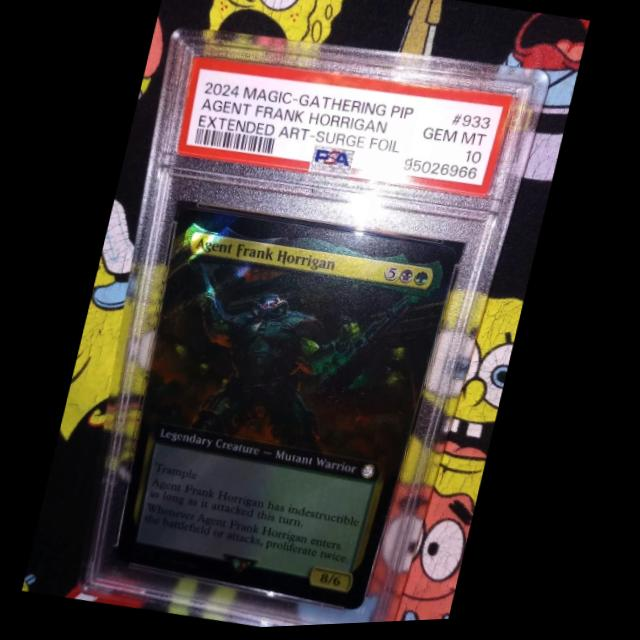card: (120, 206, 463, 616)
psa_label: (176, 56, 517, 200)
psa_slab: (81, 26, 555, 630)
